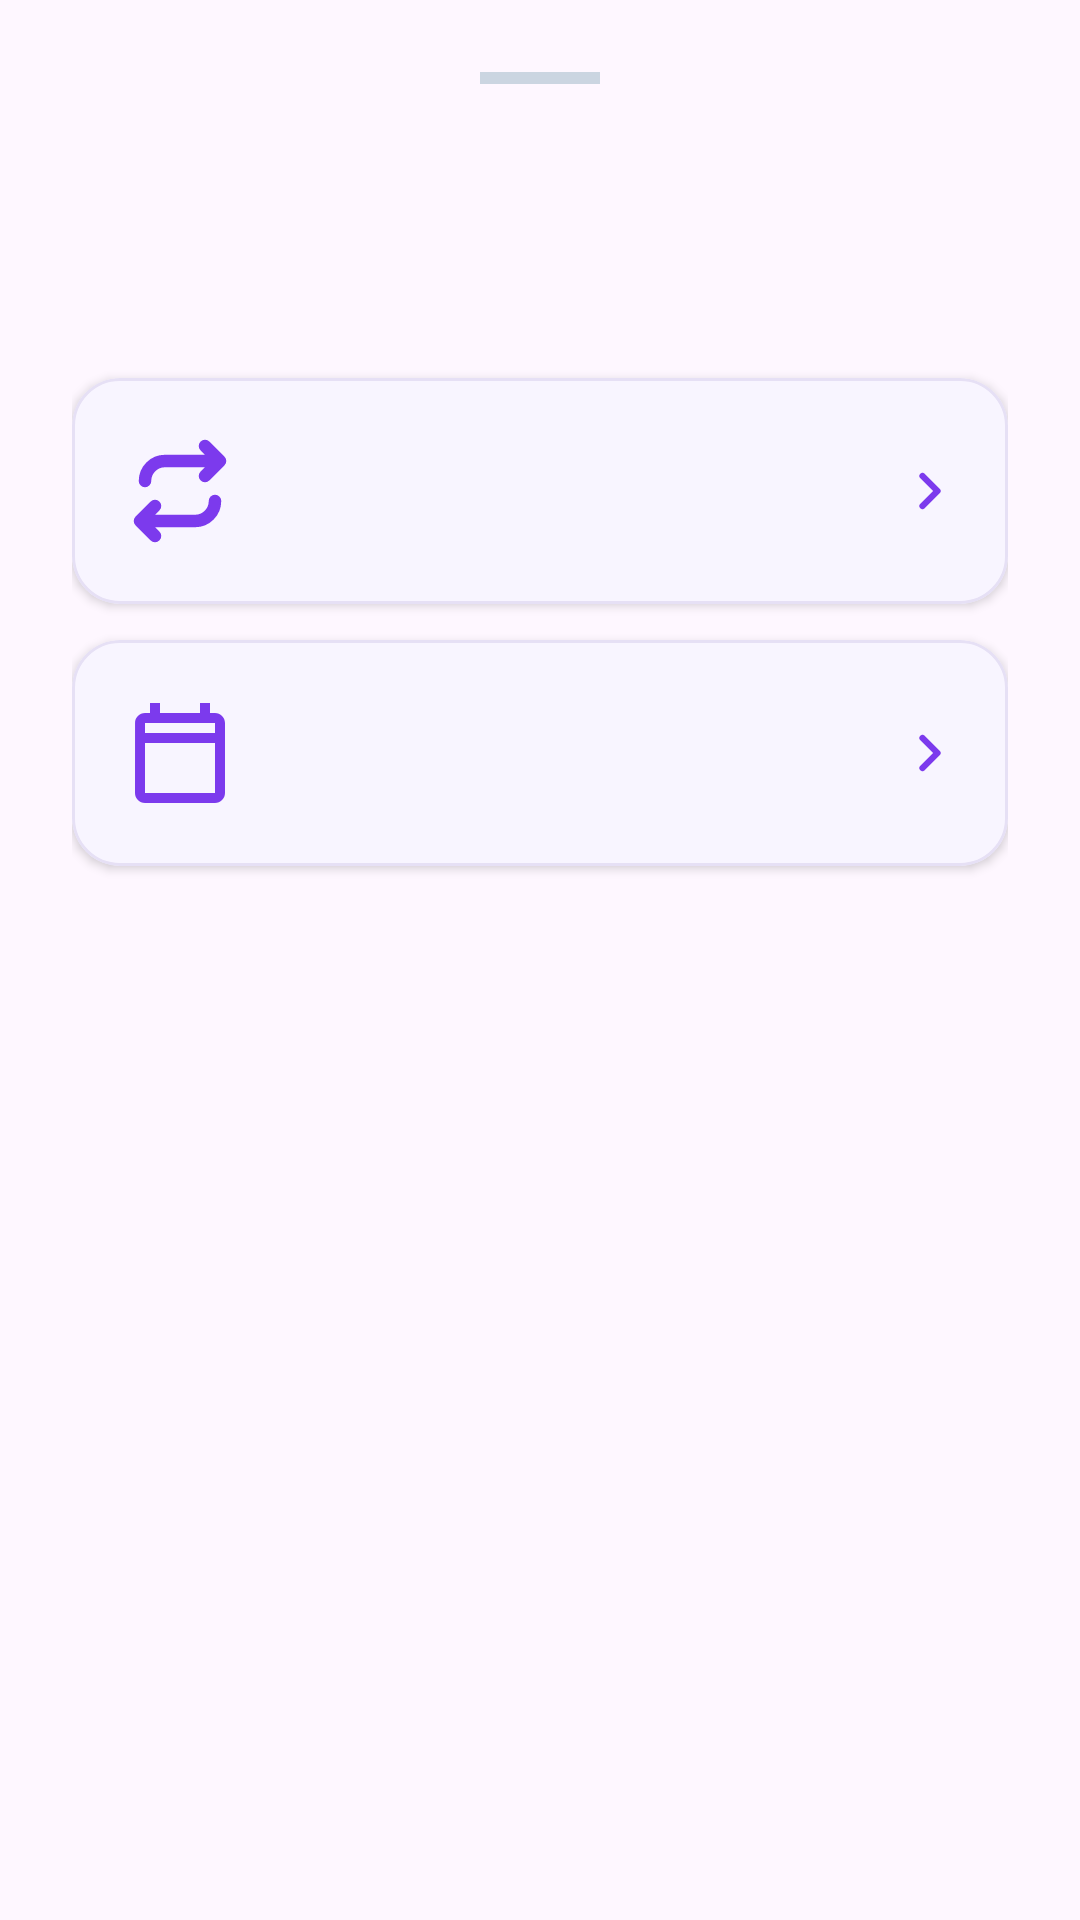

Where icons sit on this 1080px×1920px app screen, as (x1, y1, x2, y2):
calendar nurse: (135, 703, 225, 803)
shift swaps: (133, 439, 227, 543)
